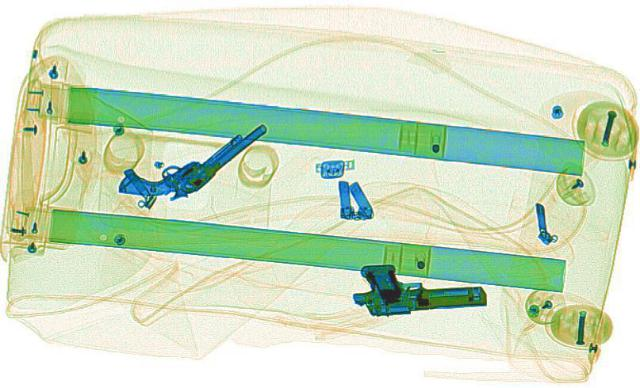Gun: (102, 100, 272, 210), (344, 257, 488, 314)
